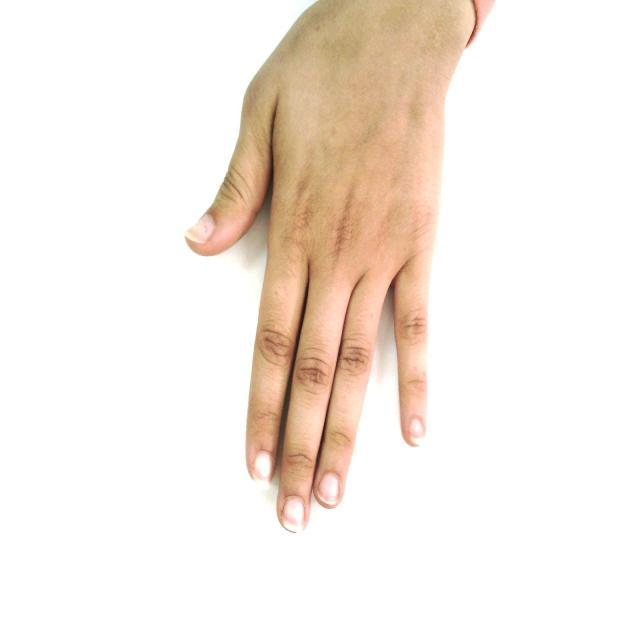Fingernail: (184, 214, 215, 243), (282, 496, 305, 532), (319, 473, 339, 504), (255, 452, 271, 481), (410, 419, 425, 446)
